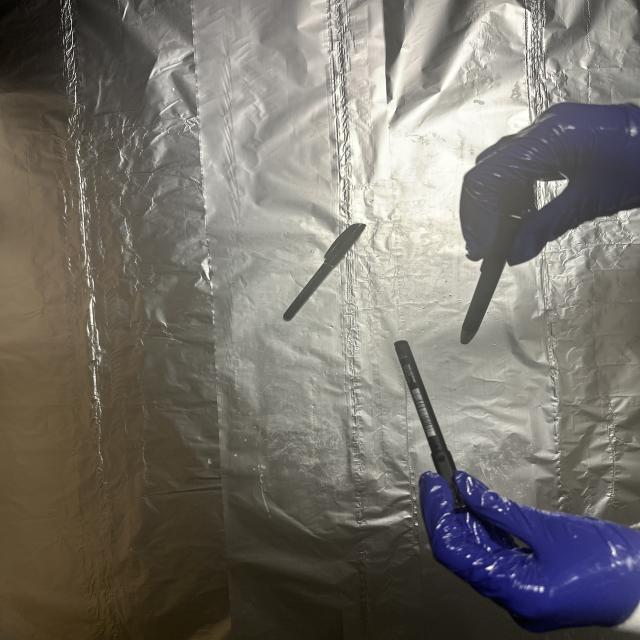gloves_contaminated: (420, 471, 640, 632), (460, 103, 640, 265)
